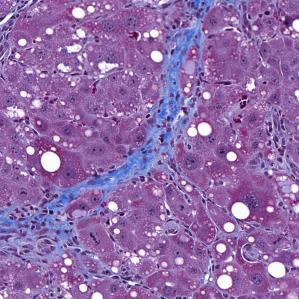fibrosis: (161, 16, 206, 135), (74, 148, 174, 197), (5, 206, 84, 266)
